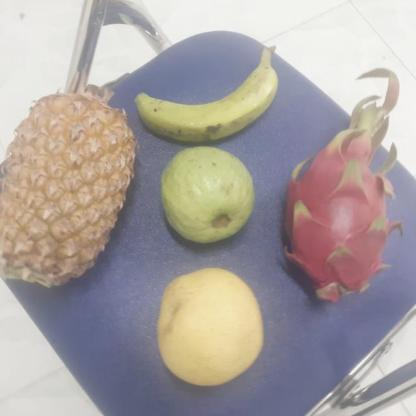banana: (132, 46, 276, 142)
guava: (156, 149, 254, 242)
pear: (147, 268, 268, 385)
pineapple: (0, 98, 133, 287)
pitaya: (274, 130, 394, 308)
